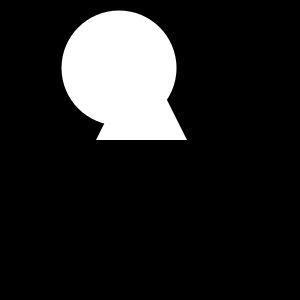circle: (98, 76, 125, 103)
rectangle: (61, 10, 176, 126)
triangle: (96, 49, 187, 140)
